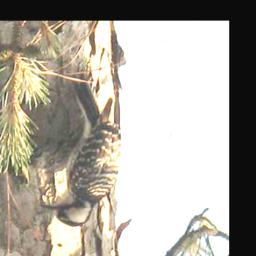Woodpecker: (39, 77, 122, 228)
